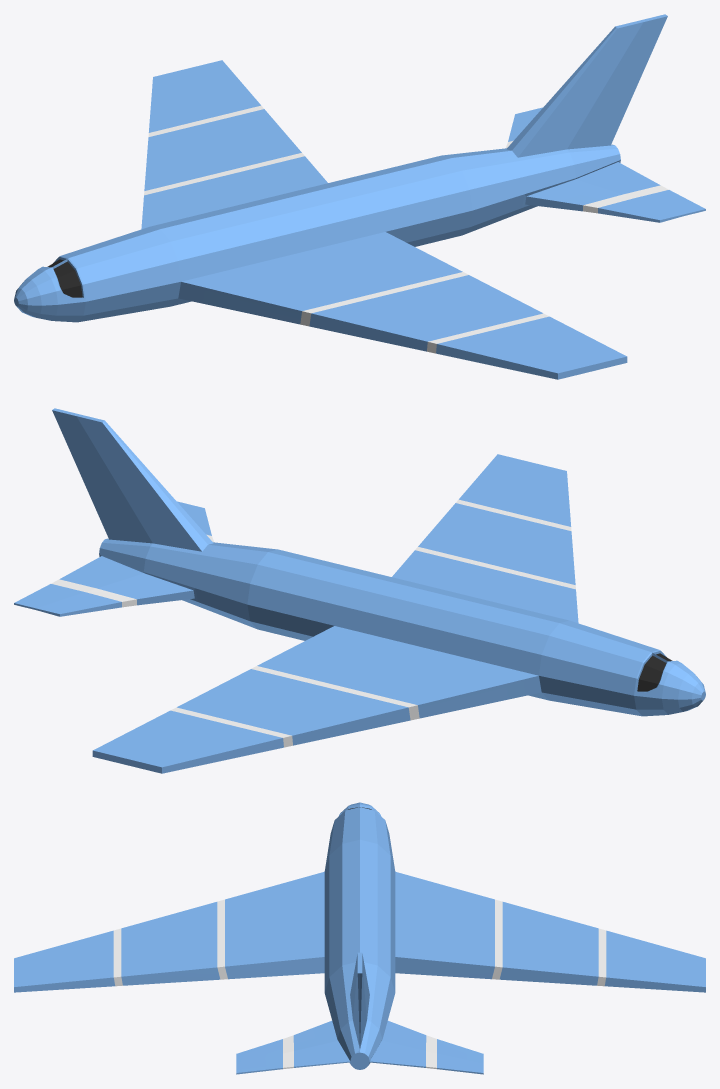
Rendered from Air Plane_2.fbx.
3 views of the same model, one above another, from view 1: azimuth 30°, elevation 25°; view 2: azimuth 150°, elevation 25°; view 3: azimuth 270°, elevation 25° (orthographic). The views are drawn at different scales.
Visible parts, largest first — view 1: Air Plane_2; view 2: Air Plane_2; view 3: Air Plane_2.
Boxes of the visible parts, x1=… form: Air Plane_2: x1=14, y1=14, x2=705, y2=379; Air Plane_2: x1=14, y1=408, x2=705, y2=773; Air Plane_2: x1=14, y1=802, x2=705, y2=1074.
Size of the model in its own units: 0.3321 by 0.0807 by 0.3582.
